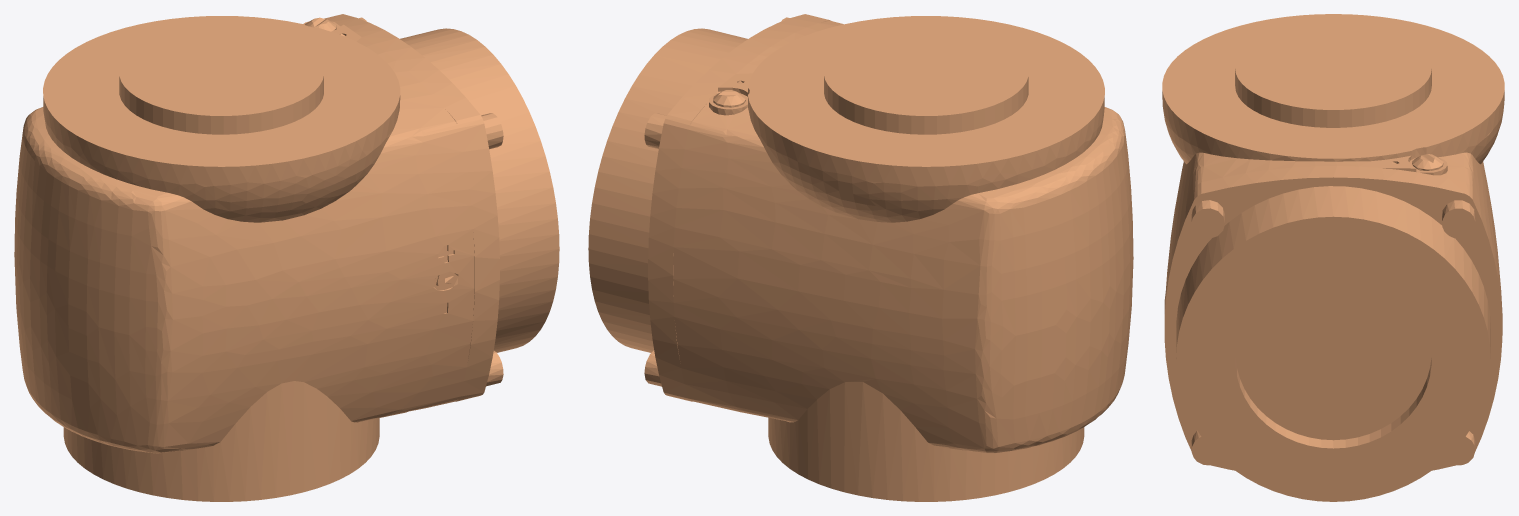
The picture shows the model from 3 angles, left to right: view 1: azimuth 30°, elevation 25°; view 2: azimuth 150°, elevation 25°; view 3: azimuth 270°, elevation 25°; orthographic projection. The views are drawn at different scales.
Parts seen in each view (by area): view 1: /Link_5/Link_5-mesh/0; view 2: /Link_5/Link_5-mesh/0; view 3: /Link_5/Link_5-mesh/0.
Boxes of the visible parts, bbox=[...] form: /Link_5/Link_5-mesh/0: bbox=[14, 14, 559, 501]; /Link_5/Link_5-mesh/0: bbox=[588, 14, 1133, 501]; /Link_5/Link_5-mesh/0: bbox=[1162, 14, 1504, 501].
Bounding box in the file's own units: 0.1225 × 0.1025 × 0.087.
